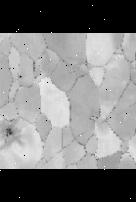good_void: (27, 60, 37, 78), (3, 124, 13, 139), (134, 52, 136, 77), (16, 74, 22, 81)
